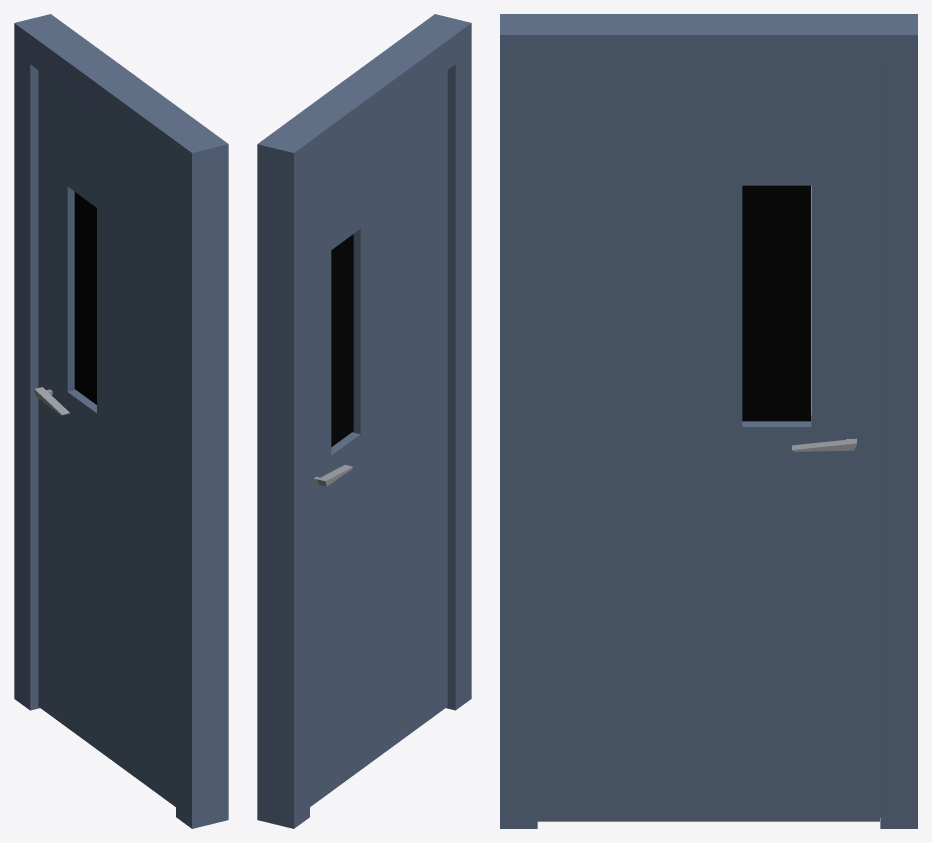
The picture shows the model from 3 angles, left to right: view 1: azimuth 30°, elevation 25°; view 2: azimuth 150°, elevation 25°; view 3: azimuth 270°, elevation 25°; orthographic projection. The views are drawn at different scales.
Visible parts, largest first — view 1: 立方体_1_2, 立方体, 立方体_2_2; view 2: 立方体_1_2, 立方体, 立方体_2_2; view 3: 立方体_1_2, 立方体, 立方体_2_2.
Boxes of the visible parts, bbox=[...] form: 立方体_1_2: bbox=[38, 70, 175, 806]; 立方体: bbox=[14, 14, 228, 828]; 立方体_2_2: bbox=[74, 192, 96, 404]; 立方体_1_2: bbox=[310, 70, 447, 806]; 立方体: bbox=[257, 14, 471, 828]; 立方体_2_2: bbox=[331, 234, 353, 446]; 立方体_1_2: bbox=[537, 69, 879, 821]; 立方体: bbox=[500, 14, 917, 828]; 立方体_2_2: bbox=[742, 185, 810, 421].
Bounding box in the file's own units: 72.1 × 1006 × 480.
